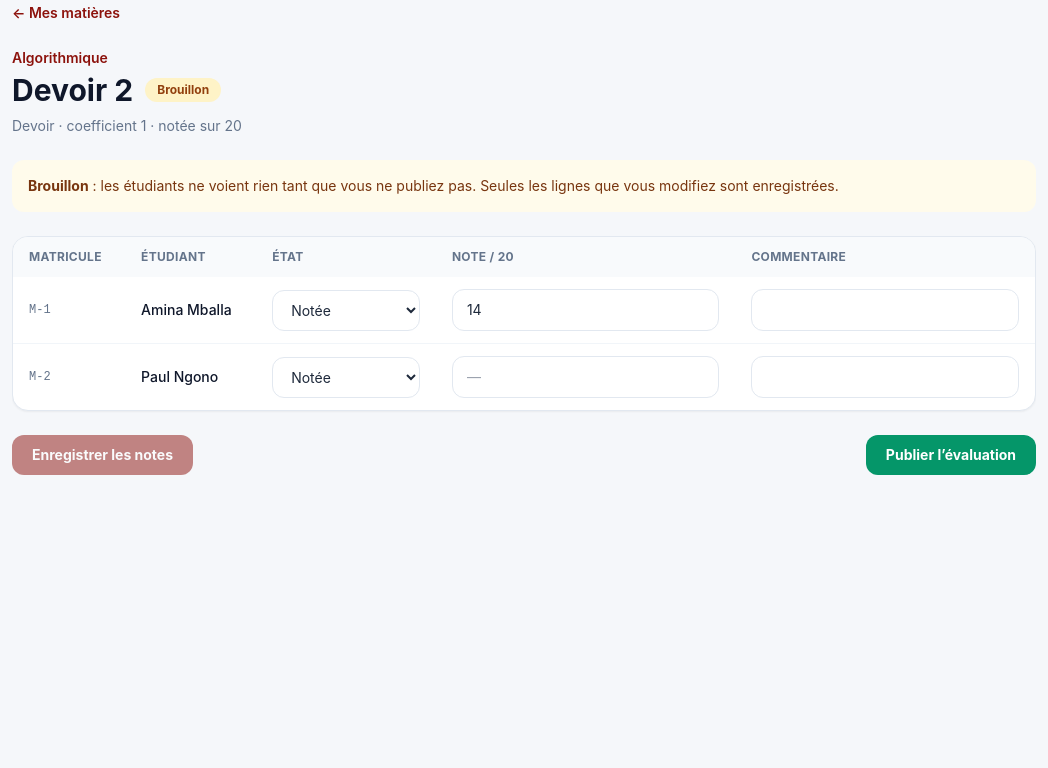
Test: conflits et erreurs par ligne › 409 sans détail (écriture simultanée) : même rechargement avec message clair
Step 1. Replace the text in the field named "Note de Amina Mballa" with "18" → {"x": 586, "y": 310}, box top-left (452, 289), bottom-right (719, 331)
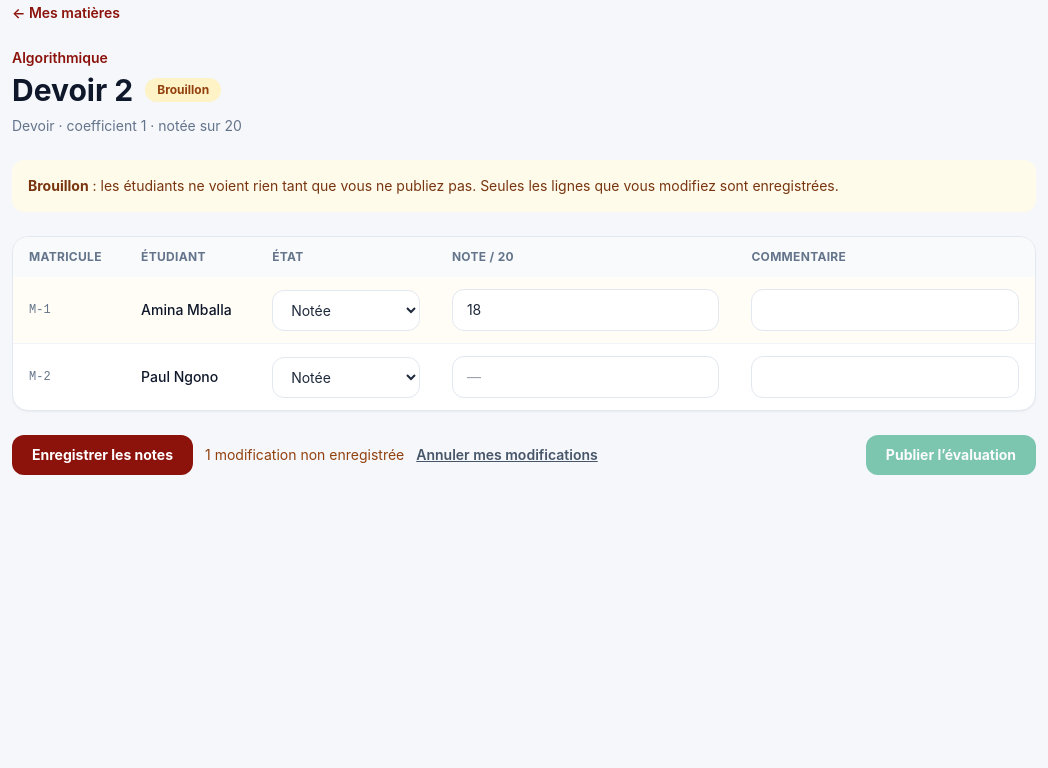
Step 2. Click the button "Enregistrer les notes" → {"x": 102, "y": 455}, box top-left (12, 435), bottom-right (193, 475)
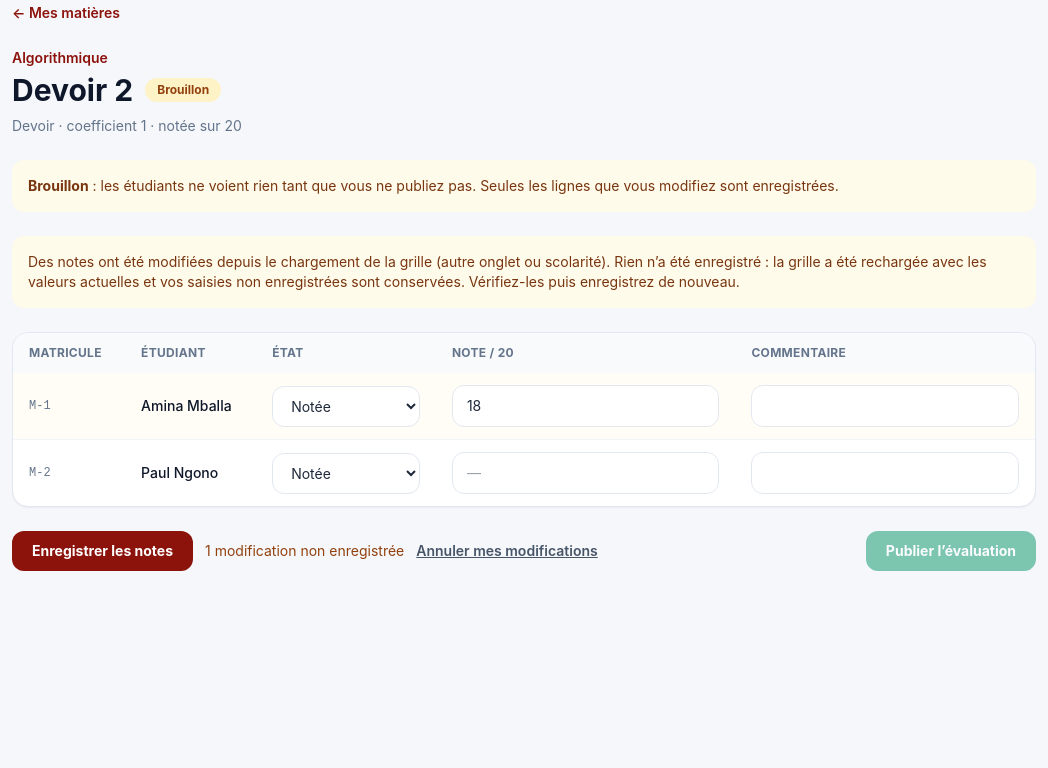
Result: the text "Des notes ont été modifiées depuis le chargement" is shown at top-left (28, 253), bottom-right (986, 290)
